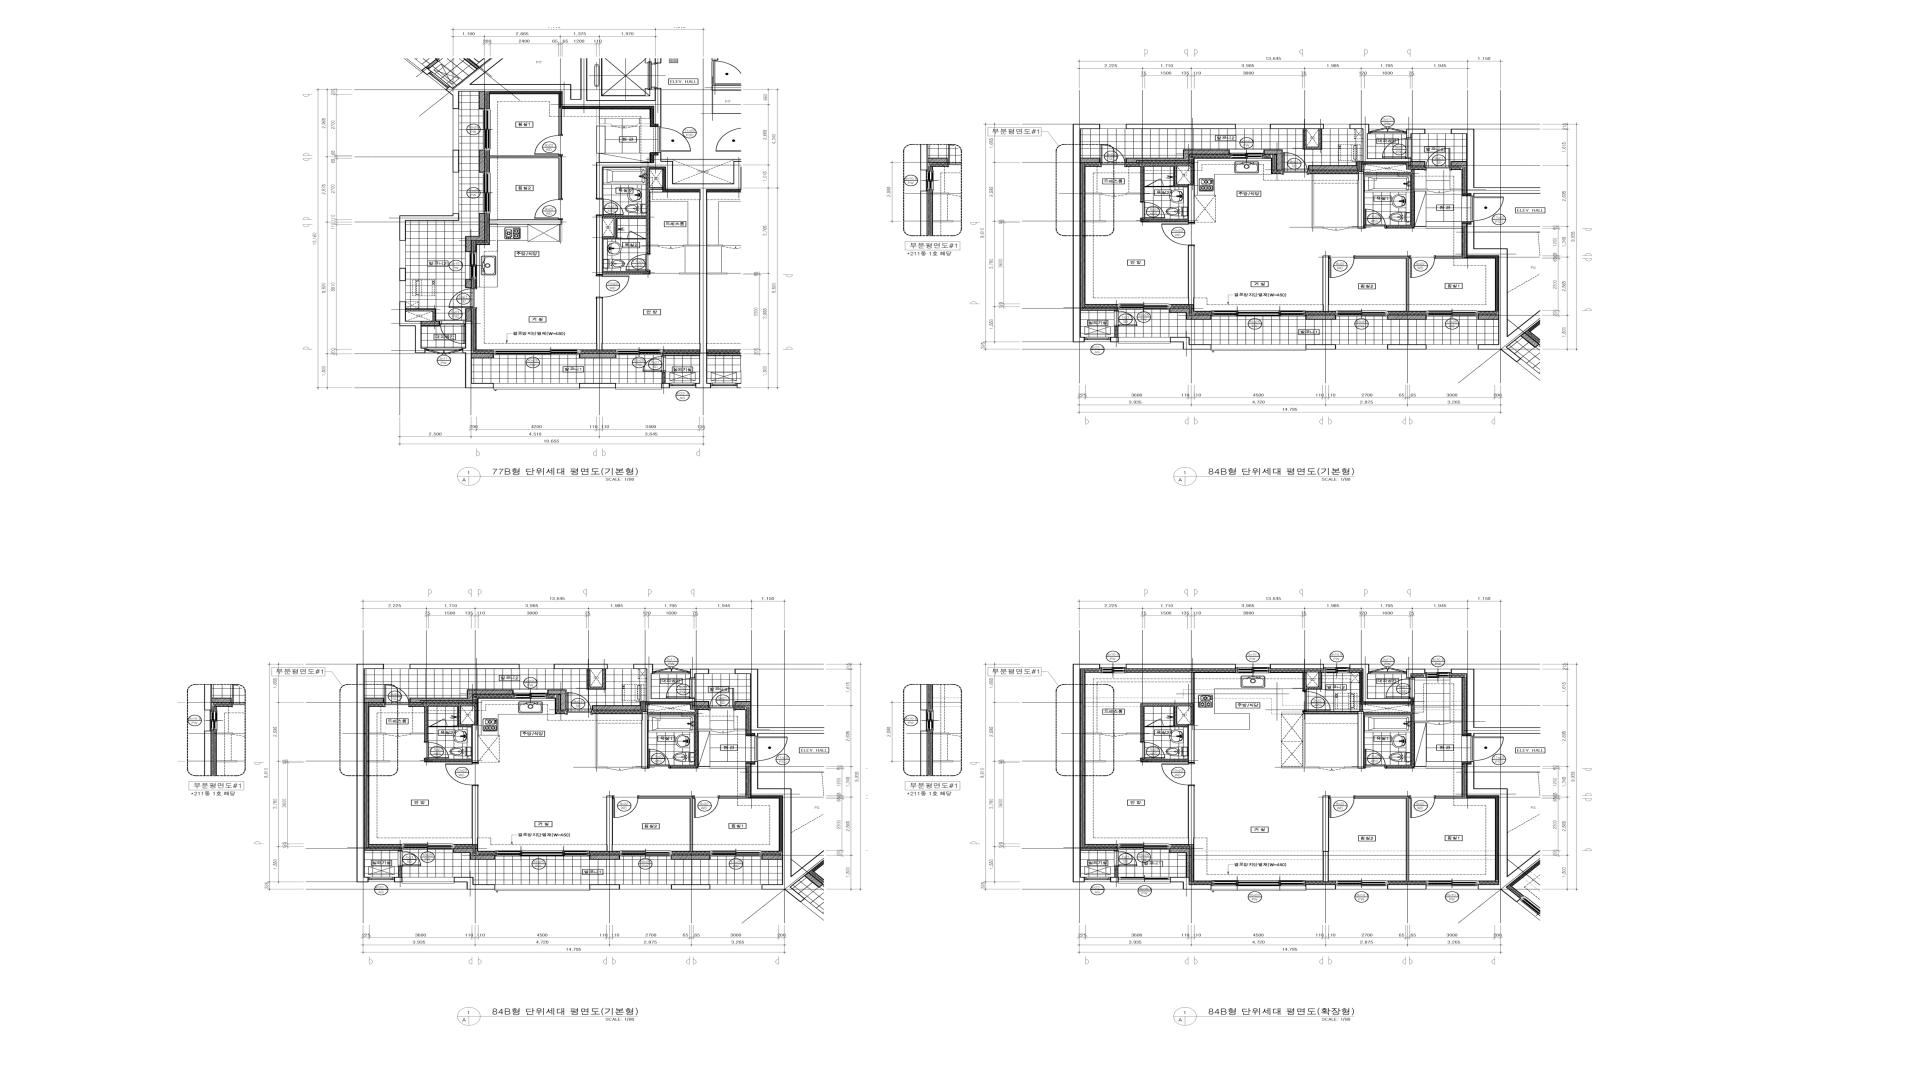door: (755, 736, 788, 761), (1471, 196, 1504, 221), (658, 127, 691, 152), (1471, 736, 1504, 761), (1161, 762, 1195, 786), (596, 274, 629, 298), (445, 762, 479, 785), (1161, 222, 1195, 245), (663, 678, 696, 698), (1380, 138, 1412, 158), (1409, 255, 1436, 278), (1409, 795, 1436, 818), (1302, 690, 1331, 711), (440, 320, 465, 344), (613, 795, 639, 818), (693, 795, 719, 818), (384, 684, 410, 707), (1100, 144, 1126, 167), (1329, 255, 1355, 278), (1329, 795, 1355, 818), (449, 288, 477, 309), (534, 199, 563, 219), (534, 135, 563, 155), (1386, 678, 1415, 698), (709, 688, 735, 710), (567, 692, 592, 714), (1283, 152, 1308, 174), (1426, 148, 1451, 170), (596, 198, 624, 215), (424, 741, 449, 759), (626, 253, 651, 271), (1140, 201, 1165, 219), (1140, 741, 1165, 759), (1365, 749, 1387, 768), (649, 749, 670, 768), (1365, 209, 1386, 228), (643, 356, 666, 372), (1114, 311, 1138, 326), (1114, 851, 1138, 866), (398, 851, 421, 866), (425, 348, 463, 355), (1369, 667, 1407, 674), (653, 667, 690, 674), (1369, 127, 1406, 134), (1146, 178, 1164, 187), (1146, 718, 1164, 727), (430, 718, 447, 727), (627, 231, 644, 239), (1428, 720, 1451, 725), (658, 245, 684, 249), (1428, 189, 1451, 193), (712, 729, 734, 733), (607, 767, 633, 770), (385, 733, 411, 736), (1101, 193, 1127, 196), (1323, 227, 1349, 230), (1319, 767, 1345, 770), (1102, 733, 1127, 736), (611, 126, 637, 128)
wall: (596, 152, 741, 388), (445, 58, 661, 127), (1466, 761, 1541, 902), (750, 761, 824, 902), (1466, 221, 1540, 362), (735, 668, 825, 736), (1451, 668, 1541, 736), (1452, 128, 1541, 196), (357, 664, 384, 882), (1073, 124, 1100, 342), (1073, 664, 1100, 882), (602, 167, 663, 253), (1355, 796, 1409, 881), (1281, 711, 1358, 768), (1364, 704, 1428, 768), (1361, 164, 1415, 228), (645, 704, 698, 768), (489, 155, 562, 199), (639, 796, 693, 851), (1355, 256, 1409, 311), (1350, 124, 1412, 162), (634, 664, 695, 702), (1350, 664, 1411, 702), (1140, 703, 1195, 741), (424, 703, 478, 741), (1141, 163, 1195, 201), (463, 321, 493, 388), (424, 727, 472, 762), (1140, 187, 1188, 222), (1141, 727, 1188, 762), (399, 213, 459, 240), (409, 689, 513, 703), (1126, 149, 1230, 163), (399, 301, 425, 353), (1345, 711, 1365, 768), (633, 712, 649, 768), (1349, 172, 1365, 228), (465, 213, 485, 252), (1311, 174, 1324, 228), (595, 714, 607, 768), (406, 308, 440, 326), (1170, 848, 1190, 877), (1126, 124, 1236, 129), (1126, 664, 1236, 669), (410, 664, 519, 669), (1323, 796, 1329, 881), (453, 848, 495, 860), (1170, 308, 1212, 320), (1170, 877, 1211, 889), (454, 877, 495, 889), (1170, 337, 1211, 349), (547, 689, 567, 710), (1188, 245, 1195, 305), (1188, 786, 1195, 845), (596, 215, 603, 274), (586, 669, 606, 689), (1264, 149, 1283, 170), (606, 795, 613, 851), (1303, 129, 1322, 149), (489, 219, 562, 224), (596, 298, 603, 350), (472, 785, 478, 845), (1303, 672, 1322, 690), (1323, 255, 1329, 311), (1270, 124, 1324, 129), (1270, 664, 1324, 669), (1188, 184, 1195, 222), (1188, 724, 1195, 762), (554, 664, 607, 669), (596, 109, 611, 126), (592, 705, 641, 710), (1308, 165, 1357, 170), (472, 724, 478, 762), (1387, 884, 1427, 889), (671, 884, 710, 889), (671, 855, 710, 860), (1388, 315, 1427, 320), (690, 668, 709, 678), (1406, 128, 1425, 138), (1388, 344, 1426, 349), (1406, 668, 1425, 678), (579, 353, 616, 358), (580, 383, 616, 388), (589, 884, 620, 889), (589, 855, 620, 860), (1306, 884, 1336, 889), (1306, 344, 1336, 349), (1306, 315, 1336, 320), (603, 271, 650, 274), (479, 150, 485, 172), (453, 150, 459, 172), (1478, 314, 1499, 320), (1191, 672, 1195, 703), (762, 854, 782, 860), (365, 697, 384, 703), (364, 848, 402, 851), (1081, 157, 1100, 163), (662, 353, 700, 356), (1081, 848, 1118, 851), (1081, 308, 1118, 311), (472, 353, 494, 358), (479, 91, 485, 109), (465, 308, 472, 321), (399, 268, 406, 281), (559, 108, 562, 135), (1451, 161, 1467, 166), (661, 159, 741, 160), (694, 701, 709, 706), (735, 701, 750, 706), (1411, 161, 1426, 166), (465, 279, 472, 288), (1436, 796, 1467, 798), (719, 796, 747, 798), (1114, 326, 1119, 337), (1436, 256, 1463, 258), (1110, 877, 1119, 882), (1110, 337, 1119, 342), (1115, 866, 1119, 877), (398, 866, 402, 877), (662, 372, 666, 383), (369, 760, 390, 762), (1085, 760, 1106, 762), (1085, 220, 1106, 222), (394, 877, 402, 882), (679, 272, 699, 274), (662, 383, 670, 388), (560, 224, 562, 242), (1451, 720, 1462, 723), (369, 732, 385, 734), (1086, 732, 1102, 734), (1085, 192, 1101, 194), (684, 244, 699, 246), (698, 729, 712, 731), (1359, 704, 1363, 711), (1127, 192, 1141, 194), (411, 732, 424, 734), (1127, 732, 1140, 734), (637, 124, 650, 126), (1415, 189, 1428, 191), (734, 729, 746, 731), (1451, 189, 1462, 191), (650, 244, 658, 246)
window: (1211, 880, 1306, 891), (495, 884, 590, 891), (1211, 344, 1306, 351), (495, 850, 589, 856), (1212, 310, 1306, 316), (493, 383, 580, 389), (494, 349, 579, 355), (1427, 880, 1478, 889), (1336, 880, 1387, 889), (513, 689, 547, 699), (1230, 149, 1264, 159), (465, 252, 477, 279), (1118, 337, 1171, 343), (710, 850, 762, 856), (402, 877, 454, 883), (1336, 310, 1388, 316), (620, 850, 671, 856), (1427, 310, 1478, 316), (1236, 664, 1270, 673), (1119, 877, 1170, 883), (483, 109, 490, 150), (483, 172, 490, 213), (615, 383, 662, 389), (616, 349, 662, 355), (710, 884, 762, 889), (1118, 304, 1170, 309), (1336, 344, 1388, 349), (1426, 344, 1478, 349), (1118, 844, 1170, 849), (620, 884, 671, 889), (402, 844, 453, 849), (453, 109, 459, 150), (453, 172, 459, 213), (1100, 664, 1126, 673), (1324, 664, 1350, 673), (1425, 669, 1451, 678), (519, 664, 554, 669), (1236, 124, 1270, 129), (400, 240, 406, 268), (607, 664, 634, 669), (1425, 129, 1452, 134), (384, 664, 410, 669), (709, 669, 735, 674), (368, 877, 394, 882), (670, 383, 696, 388), (1100, 124, 1126, 129), (1324, 124, 1350, 129), (1085, 337, 1110, 342), (1085, 877, 1110, 882), (400, 281, 406, 301)
